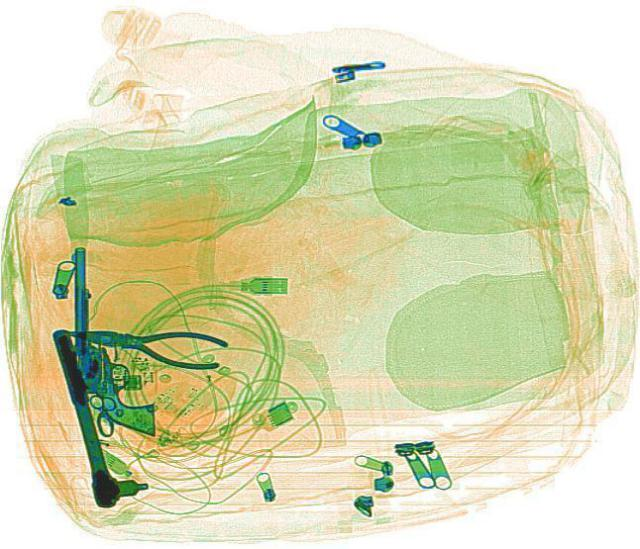Gun: (90, 348, 152, 436), (70, 247, 104, 390)
Pliers: (66, 312, 228, 373)
